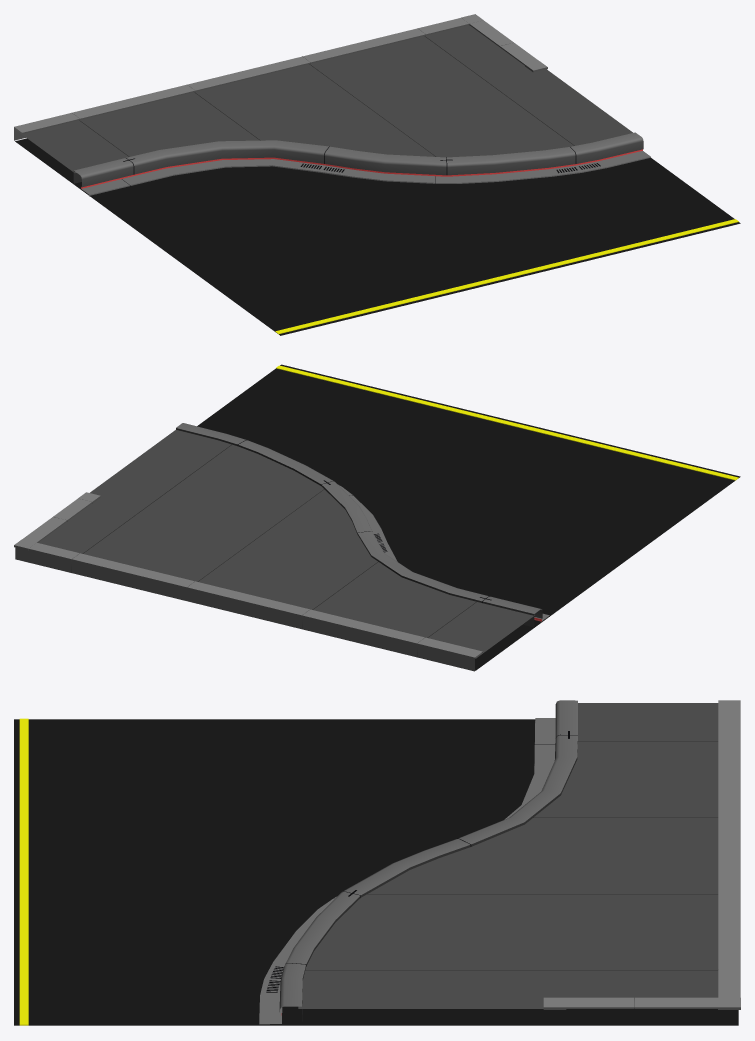
The picture shows the model from 3 angles, top to bottom: view 1: azimuth 30°, elevation 25°; view 2: azimuth 150°, elevation 25°; view 3: azimuth 270°, elevation 25°; orthographic projection. The views are drawn at different scales.
Parts seen in each view (by area): view 1: W_R_001_8x8_BA_L1; view 2: W_R_001_8x8_BA_L1; view 3: W_R_001_8x8_BA_L1.
Part boxes in pixels (x1,y1,x2,y2): W_R_001_8x8_BA_L1: (14, 14, 740, 335); W_R_001_8x8_BA_L1: (14, 364, 740, 671); W_R_001_8x8_BA_L1: (14, 700, 740, 1025).
Bounding box in the file's own units: 8.02 × 0.2464 × 8.03.
